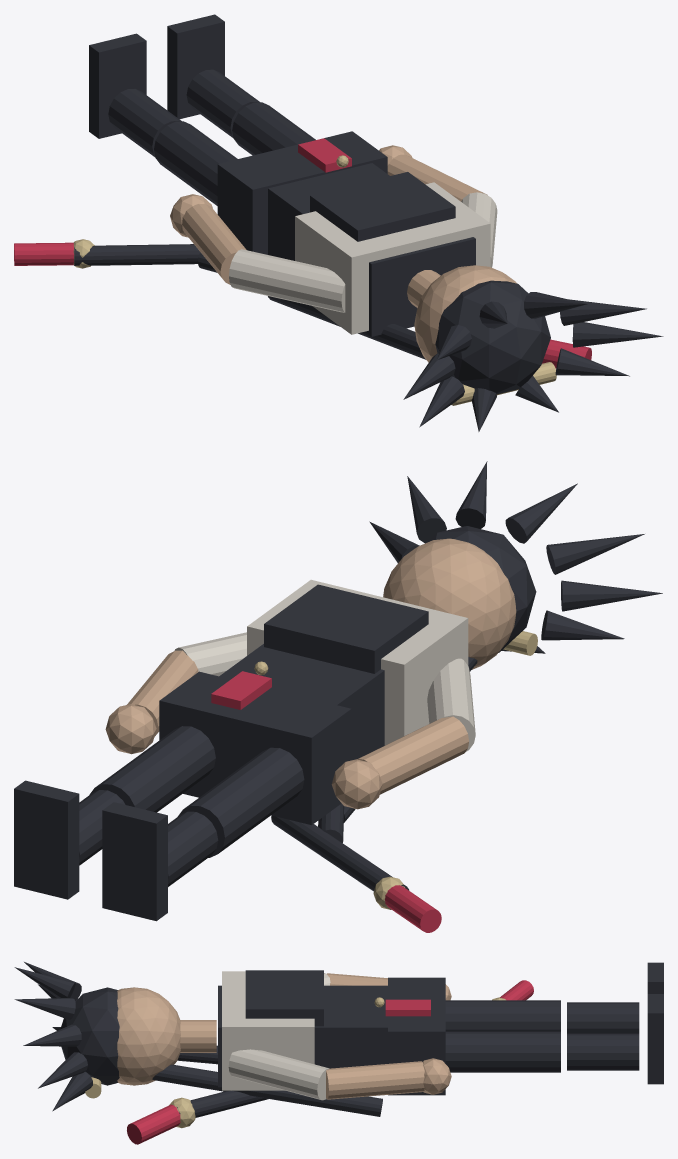
File: 02_kaede_striker.glb
The picture shows the model from 3 angles, top to bottom: view 1: azimuth 30°, elevation 25°; view 2: azimuth 150°, elevation 25°; view 3: azimuth 270°, elevation 25°; orthographic projection. The views are drawn at different scales.
Parts seen in each view (by area): view 1: kaede_white_jacket, kaede_torso, kaede_hair_cap, kaede_hips, kaede_crop_top, kaede_upper_arm_-1, kaede_shoe_-1, kaede_shoe_1, kaede_upper_leg_-1, kaede_head, kaede_upper_leg_1, kaede_lower_leg_1 (+22 smaller); view 2: kaede_hips, kaede_head, kaede_crop_top, kaede_white_jacket, kaede_shoe_-1, kaede_shoe_1, kaede_torso, kaede_upper_leg_-1, kaede_upper_leg_1, kaede_forearm_-1, kaede_hair_cap, kaede_hip_sheath (+16 smaller); view 3: kaede_torso, kaede_white_jacket, kaede_head, kaede_upper_leg_1, kaede_hips, kaede_crop_top, kaede_hair_cap, kaede_upper_leg_-1, kaede_upper_arm_1, kaede_forearm_1, kaede_long_hair_1, kaede_lower_leg_1 (+18 smaller).
Part boxes in pixels (x1=…): kaede_white_jacket: x1=295, y1=182, x2=490, y2=334; kaede_torso: x1=268, y1=163, x2=475, y2=336; kaede_hair_cap: x1=435, y1=280, x2=550, y2=394; kaede_hips: x1=217, y1=131, x2=387, y2=254; kaede_crop_top: x1=310, y1=172, x2=455, y2=241; kaede_upper_arm_-1: x1=229, y1=249, x2=345, y2=312; kaede_shoe_-1: x1=89, y1=33, x2=146, y2=138; kaede_shoe_1: x1=167, y1=14, x2=224, y2=119; kaede_upper_leg_-1: x1=154, y1=121, x2=237, y2=205; kaede_head: x1=414, y1=265, x2=516, y2=362; kaede_upper_leg_1: x1=232, y1=102, x2=315, y2=155; kaede_lower_leg_1: x1=186, y1=69, x2=259, y2=138; kaede_hips: x1=159, y1=671, x2=351, y2=825; kaede_head: x1=383, y1=538, x2=516, y2=669; kaede_crop_top: x1=264, y1=584, x2=428, y2=673; kaede_white_jacket: x1=247, y1=579, x2=468, y2=745; kaede_shoe_-1: x1=102, y1=802, x2=167, y2=921; kaede_shoe_1: x1=14, y1=780, x2=79, y2=899; kaede_torso: x1=219, y1=644, x2=384, y2=760; kaede_upper_leg_-1: x1=177, y1=747, x2=304, y2=857; kaede_upper_leg_1: x1=89, y1=726, x2=215, y2=812; kaede_forearm_-1: x1=357, y1=716, x2=468, y2=794; kaede_hair_cap: x1=426, y1=526, x2=536, y2=652; kaede_hip_sheath: x1=271, y1=815, x2=409, y2=891; kaede_torso: x1=218, y1=985, x2=387, y2=1087; kaede_white_jacket: x1=222, y1=971, x2=314, y2=1090; kaede_head: x1=117, y1=987, x2=180, y2=1085; kaede_upper_leg_1: x1=445, y1=1031, x2=560, y2=1072; kaede_hips: x1=388, y1=977, x2=445, y2=1095; kaede_crop_top: x1=245, y1=970, x2=323, y2=1026; kaede_hair_cap: x1=60, y1=987, x2=119, y2=1085; kaede_upper_leg_-1: x1=445, y1=1000, x2=560, y2=1031; kaede_upper_arm_1: x1=228, y1=1049, x2=329, y2=1100; kaede_forearm_1: x1=326, y1=1061, x2=424, y2=1099; kaede_long_hair_1: x1=152, y1=1064, x2=382, y2=1116; kaede_lower_leg_1: x1=567, y1=1033, x2=639, y2=1070.
Bounding box in the file's own units: 1.67 × 0.6203 × 3.15.
